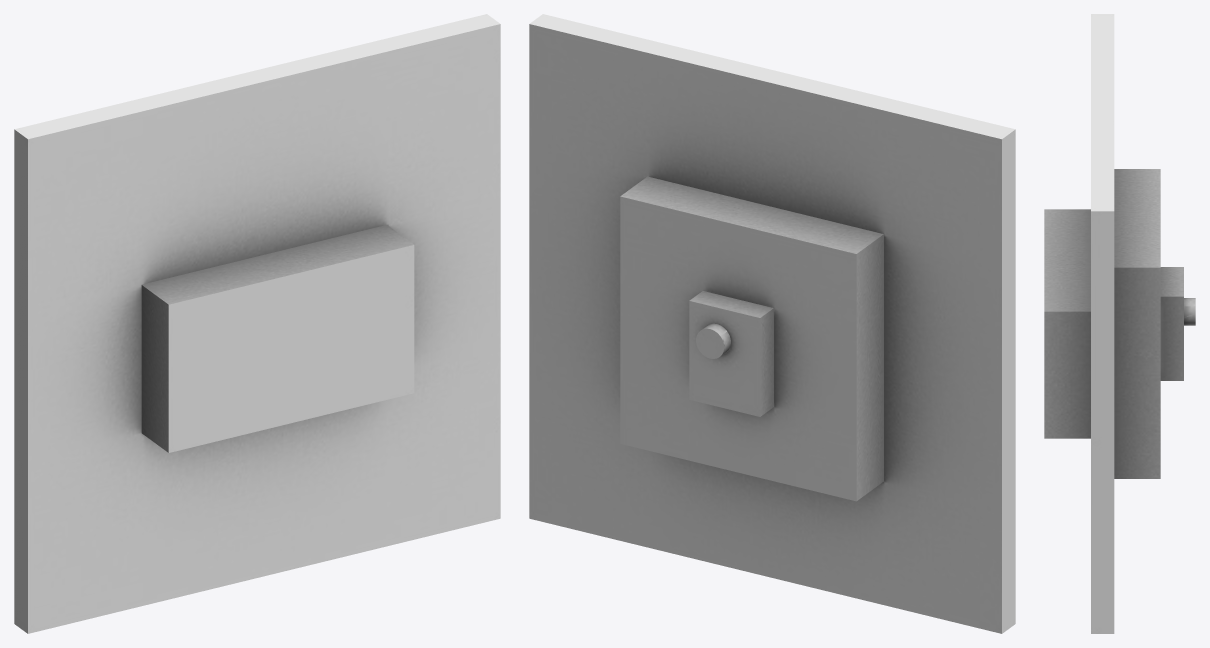
The model's file is eye-amb.dae.
3 views of the same model, side by side, from view 1: azimuth 30°, elevation 25°; view 2: azimuth 150°, elevation 25°; view 3: azimuth 270°, elevation 25° (orthographic). The views are drawn at different scales.
Visible parts, largest first — view 1: Mesh1_Model.1; view 2: Mesh1_Model.1; view 3: Mesh1_Model.1.
Boxes of the visible parts, x1,y1,x2,y2 form: Mesh1_Model.1: [14, 14, 500, 633]; Mesh1_Model.1: [529, 14, 1015, 633]; Mesh1_Model.1: [1044, 14, 1195, 633].
Bounding box in the file's own units: 20 × 20 × 6.5.
Materials: 1 (1 with a texture image).
